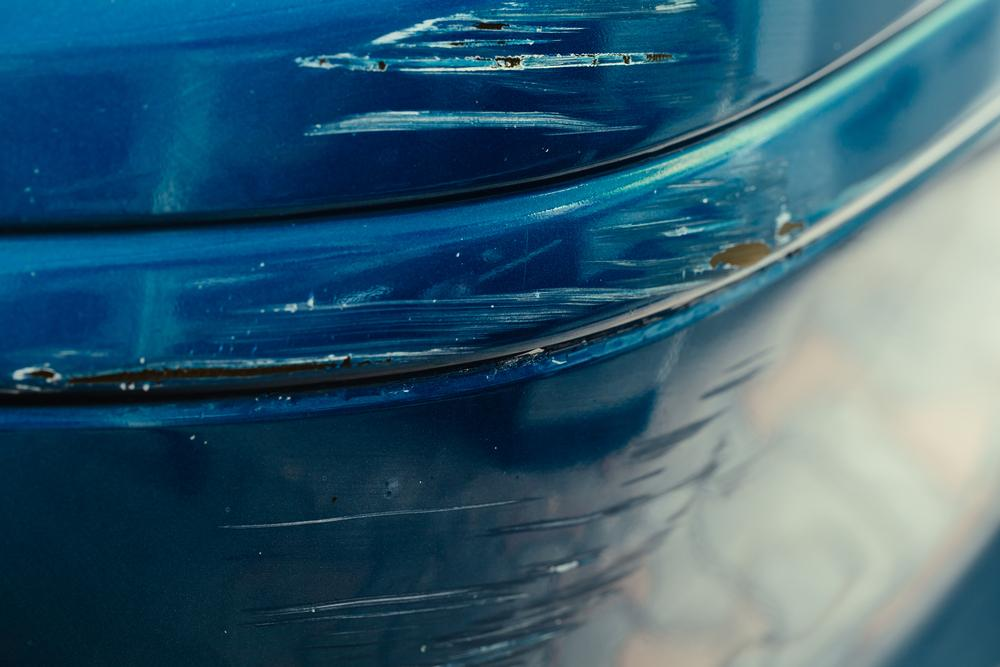scratch: (0, 0, 804, 667)
